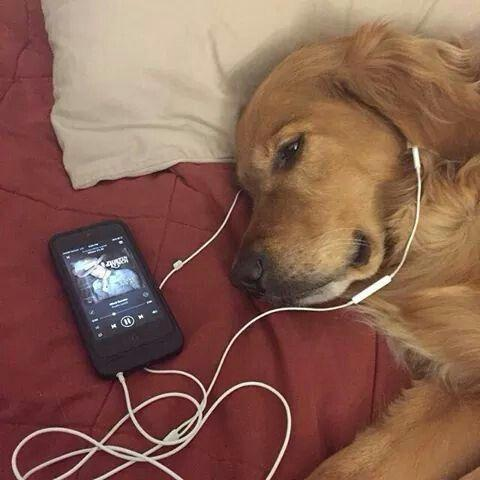adult_dog: (224, 21, 480, 480)
